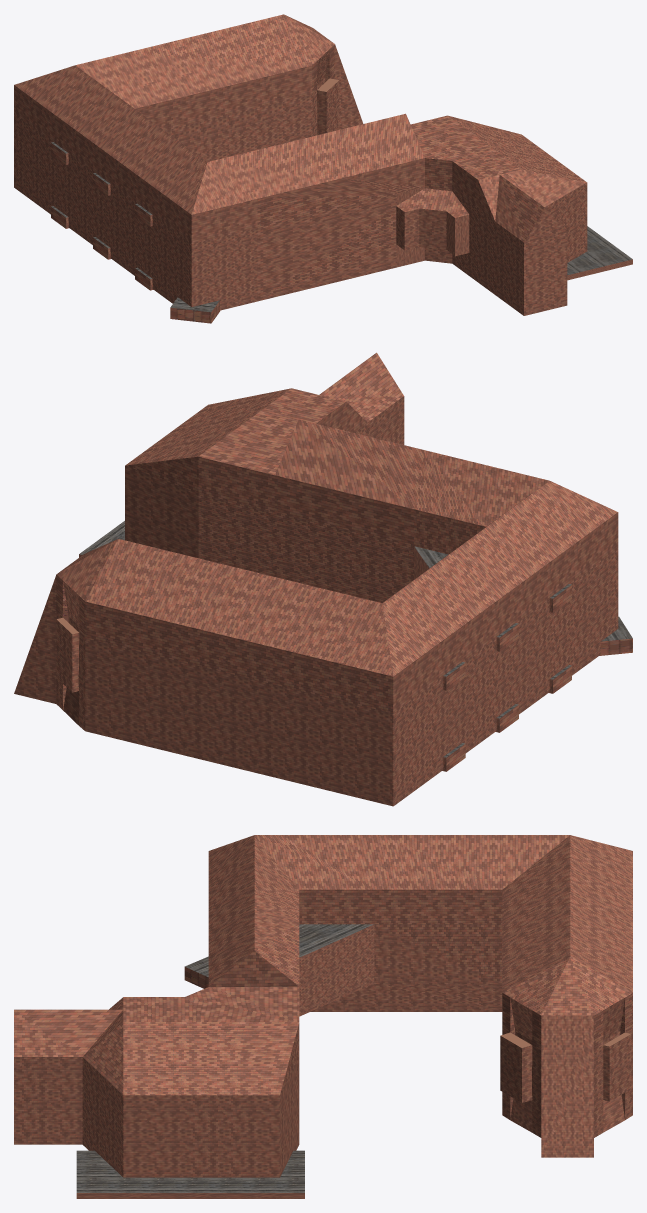
The model's file is Level_1.fbx.
3 renders of one model, top to bottom at view 1: azimuth 30°, elevation 25°; view 2: azimuth 150°, elevation 25°; view 3: azimuth 270°, elevation 25°, orthographic. The views are drawn at different scales.
Visible parts, largest first — view 1: Level; view 2: Level; view 3: Level.
Boxes of the visible parts, x1,y1,x2,y2 form: Level: (14, 14, 632, 323); Level: (14, 352, 632, 806); Level: (14, 835, 632, 1198).
Bounding box in the file's own units: 62.54 × 19.87 × 69.76.
Materials: 3 (3 with a texture image).
